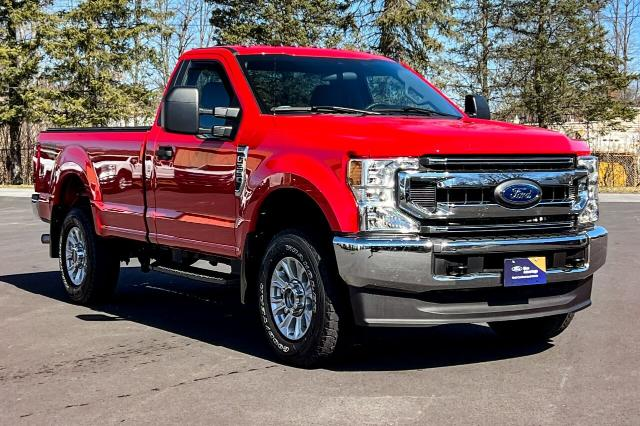pickup-truck: (30, 44, 608, 367)
